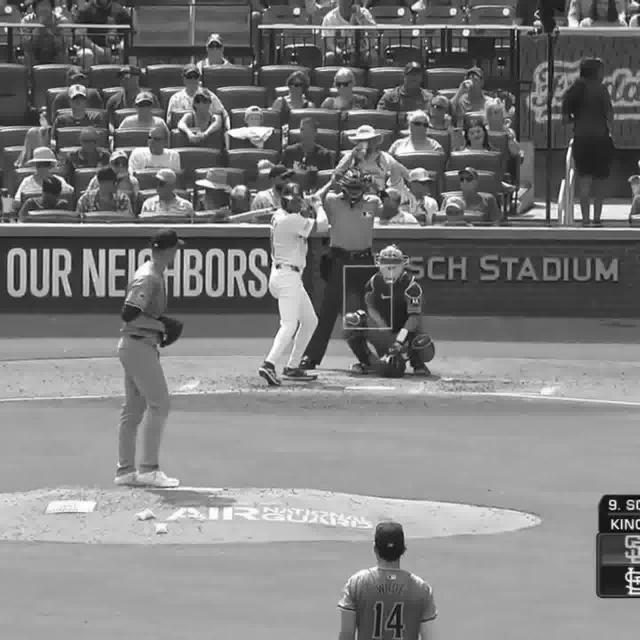base: (344, 382, 396, 390)
baseball_glove: (374, 344, 404, 379), (158, 315, 186, 350)
bat: (225, 207, 278, 228)
shoe: (132, 470, 179, 488), (254, 363, 286, 388), (281, 365, 322, 382), (116, 465, 142, 487)
